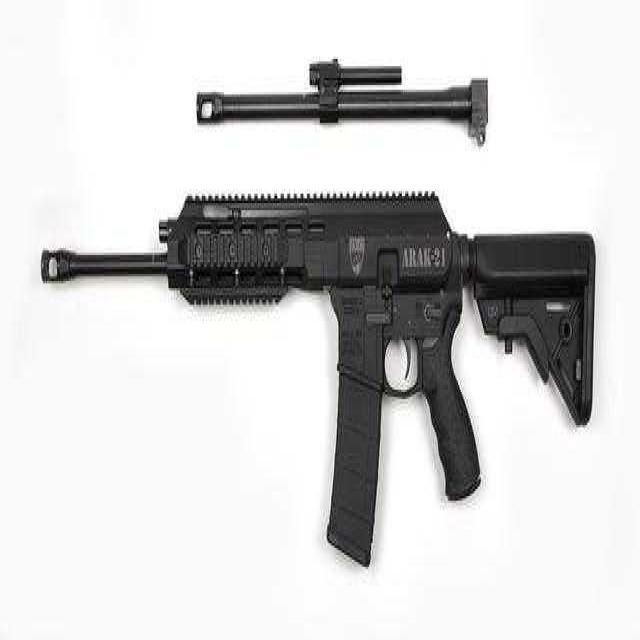weapon: (33, 109, 616, 584)
